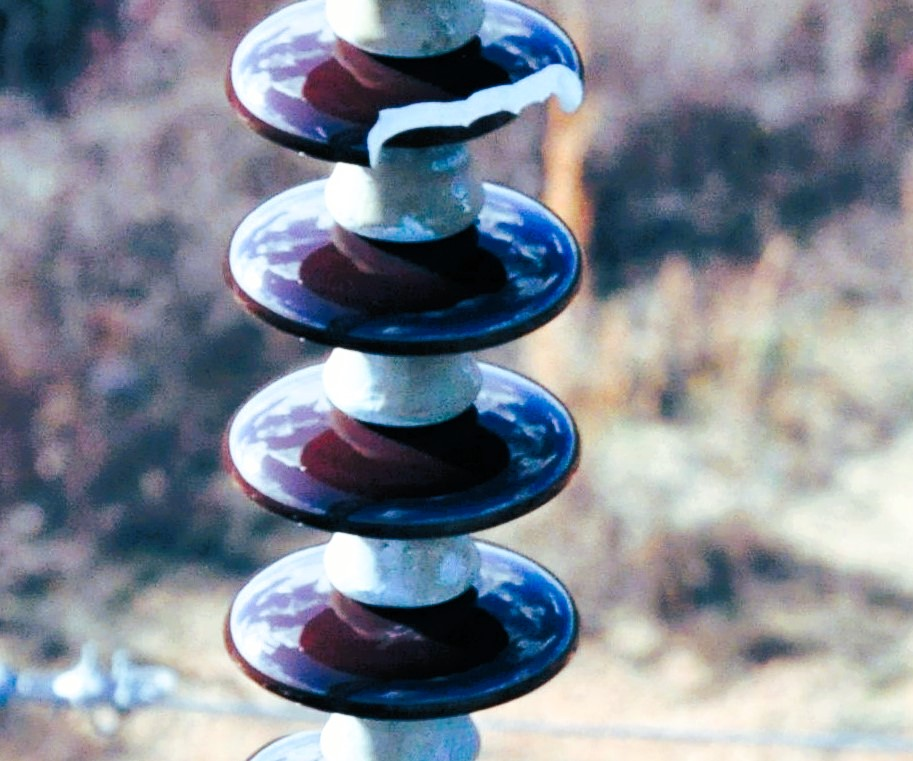insulator breakage: (222, 1, 589, 173)
